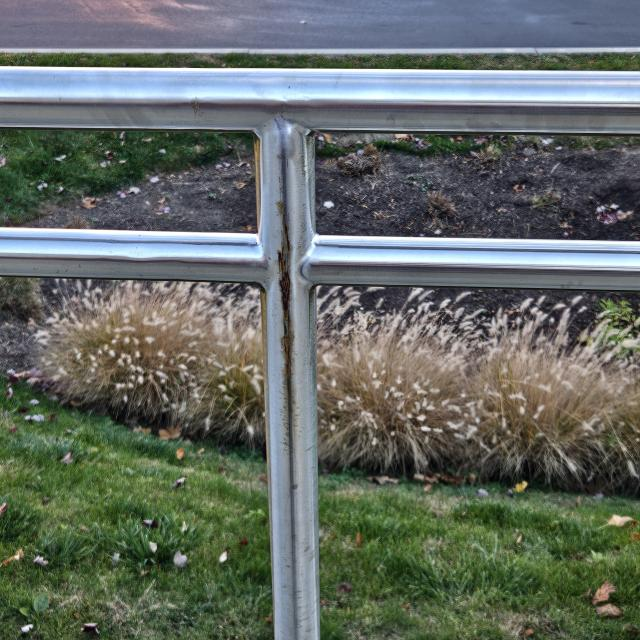Uniform Corrosion: (276, 202, 308, 466)
